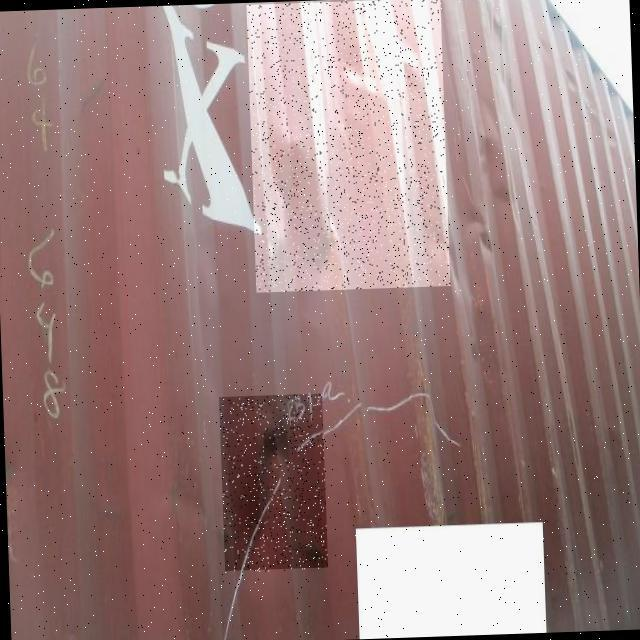Dent: (246, 0, 450, 293)
Minor-Dent: (219, 394, 328, 573)
